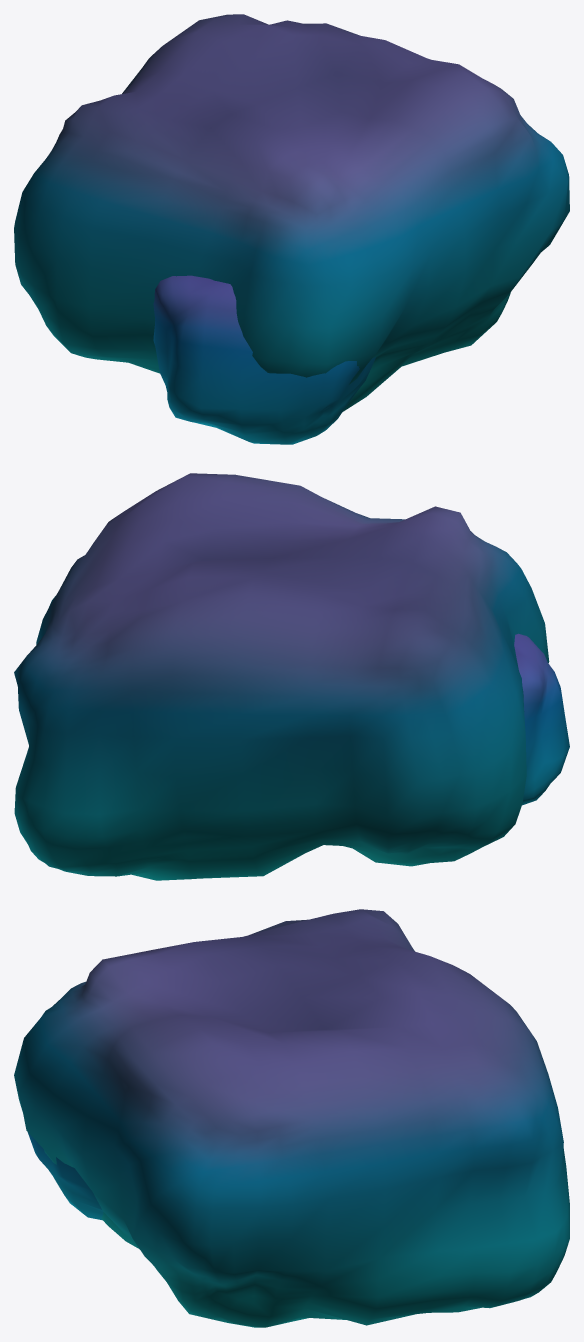
Rendered from coral_boulder_b.glb.
3 views of the same model, one above another, from view 1: azimuth 30°, elevation 25°; view 2: azimuth 150°, elevation 25°; view 3: azimuth 270°, elevation 25° (orthographic). The views are drawn at different scales.
Visible parts, largest first — view 1: coral_boulder_b; view 2: coral_boulder_b; view 3: coral_boulder_b.
Part boxes in pixels (left/top/right/bottom): coral_boulder_b: left=14, top=14, right=569, bottom=444; coral_boulder_b: left=14, top=473, right=569, bottom=880; coral_boulder_b: left=14, top=909, right=569, bottom=1327.
Size of what is drawn, in the model's own units: 1.81 by 1.07 by 1.79.
